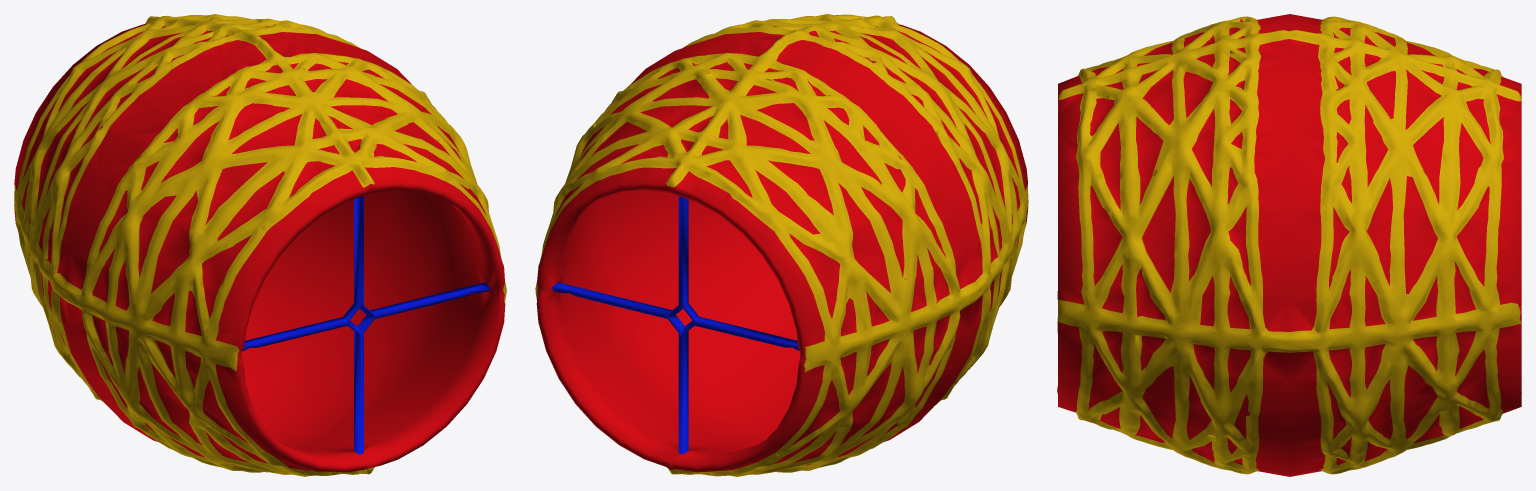
Rendered from body(Low Poly).fbx.
The picture shows the model from 3 angles, left to right: view 1: azimuth 30°, elevation 25°; view 2: azimuth 150°, elevation 25°; view 3: azimuth 270°, elevation 25°; orthographic projection. The views are drawn at different scales.
Visible parts, largest first — view 1: Body; view 2: Body; view 3: Body.
Boxes of the visible parts, left/top/right/bottom form: Body: left=14, top=14, right=506, bottom=476; Body: left=535, top=14, right=1028, bottom=476; Body: left=1057, top=14, right=1521, bottom=476.
Size of the model in its own units: 203 by 206 by 201.
